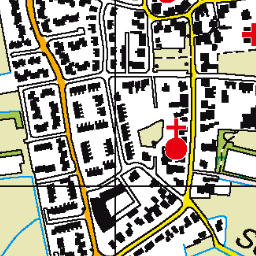church: (160, 116, 191, 163)
